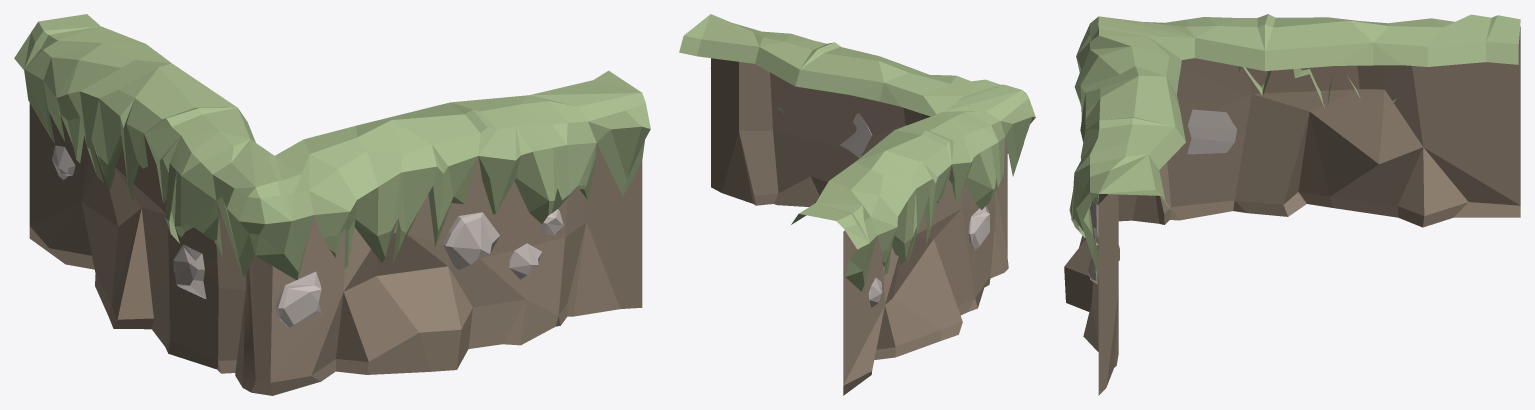
File: ER_Terrain_1x1_GrassCorner_Halfsize_001_B1.fbx
3 renders of one model, left to right at view 1: azimuth 30°, elevation 25°; view 2: azimuth 150°, elevation 25°; view 3: azimuth 270°, elevation 25°, orthographic. The views are drawn at different scales.
Parts seen in each view (by area): view 1: ER_Terrain_1x1_GrassCorner_Halfsize_001_B1; view 2: ER_Terrain_1x1_GrassCorner_Halfsize_001_B1; view 3: ER_Terrain_1x1_GrassCorner_Halfsize_001_B1.
Part boxes in pixels (left/top/right/bottom): ER_Terrain_1x1_GrassCorner_Halfsize_001_B1: left=14, top=14, right=650, bottom=395; ER_Terrain_1x1_GrassCorner_Halfsize_001_B1: left=679, top=14, right=1035, bottom=395; ER_Terrain_1x1_GrassCorner_Halfsize_001_B1: left=1064, top=14, right=1520, bottom=395.
Size of the model in its own units: 1.08 by 0.5611 by 1.08.
